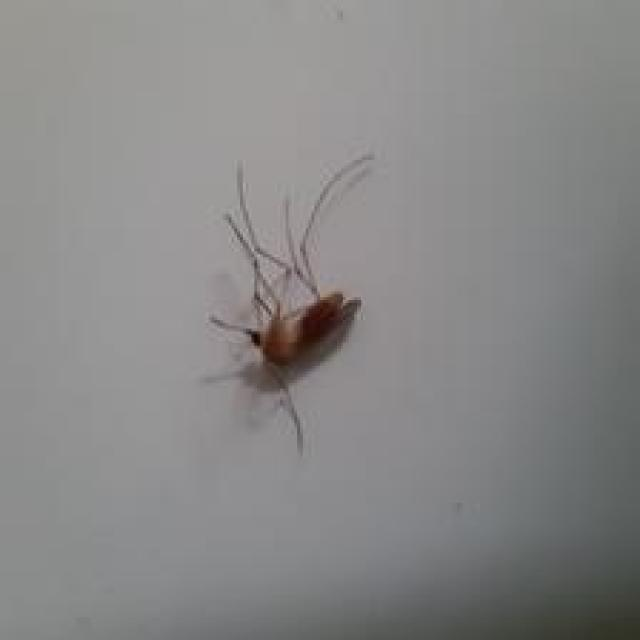Culex: (201, 149, 376, 454)
